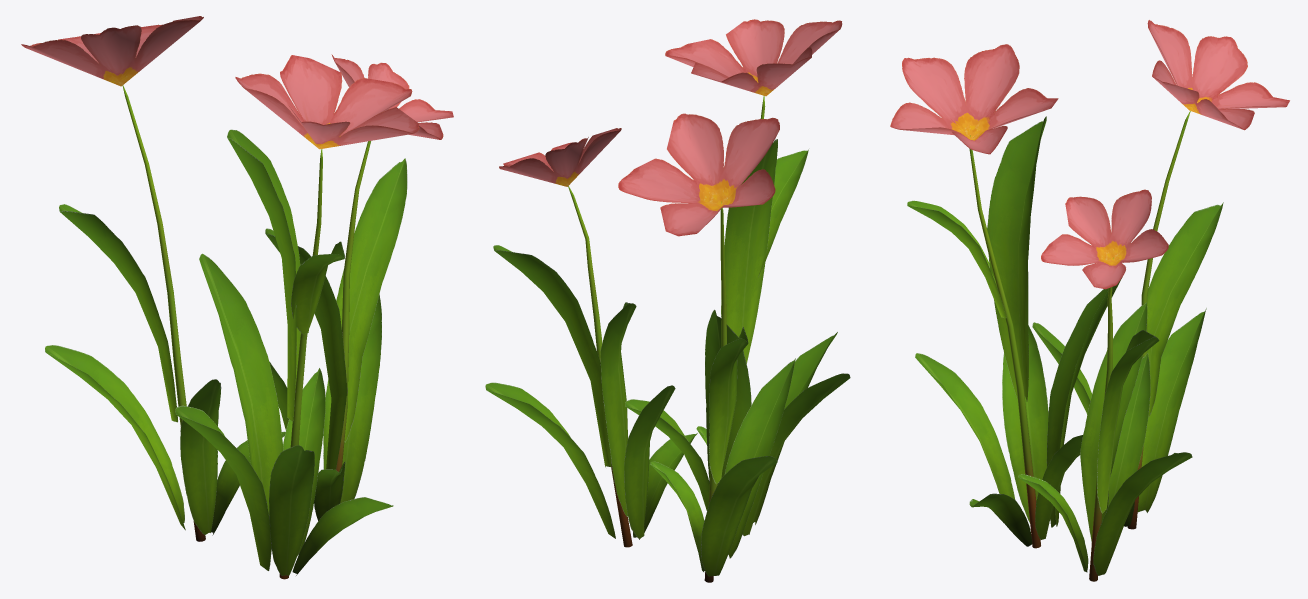
Rendered from Flower_3_Group.glb.
The picture shows the model from 3 angles, left to right: view 1: azimuth 30°, elevation 25°; view 2: azimuth 150°, elevation 25°; view 3: azimuth 270°, elevation 25°; orthographic projection. The views are drawn at different scales.
Parts seen in each view (by area): view 1: Flower_3_Group; view 2: Flower_3_Group; view 3: Flower_3_Group.
Part boxes in pixels (box(x1,y1,x2,y2)): Flower_3_Group: box(21, 16, 453, 579); Flower_3_Group: box(485, 19, 850, 582); Flower_3_Group: box(890, 20, 1289, 581).
Bounding box in the file's own units: 1.49 × 2.05 × 1.59.
2 materials, 2 textured.
